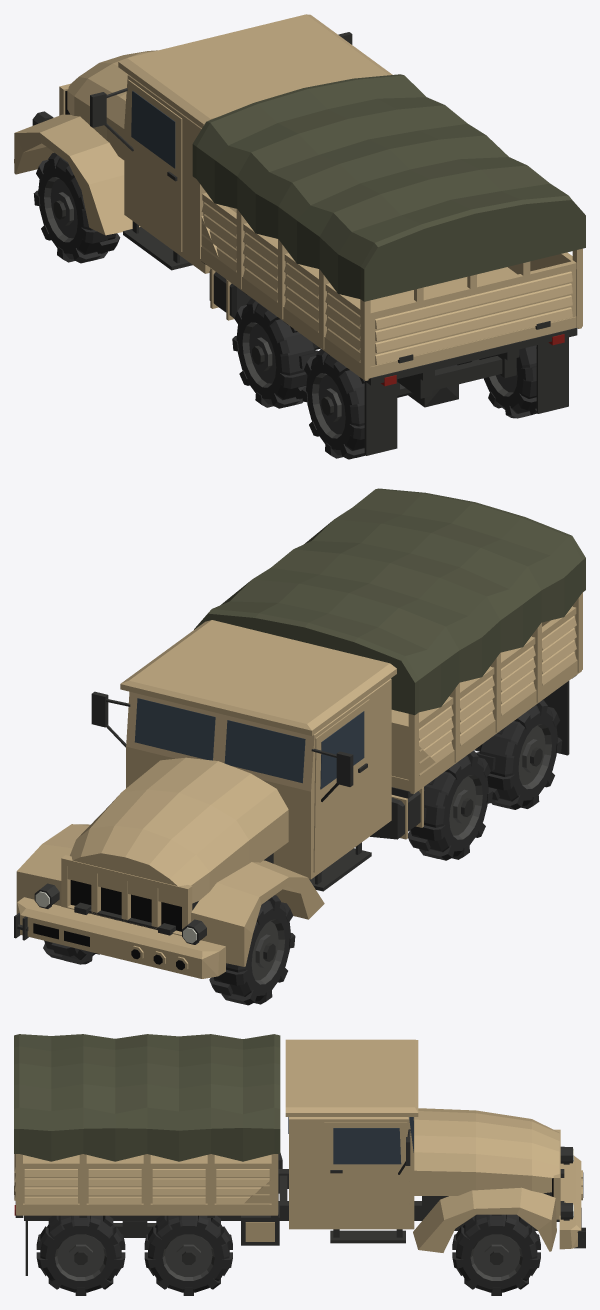
The model's file is supply_truck.glb.
3 renders of one model, top to bottom at view 1: azimuth 30°, elevation 25°; view 2: azimuth 150°, elevation 25°; view 3: azimuth 270°, elevation 25°, orthographic. The views are drawn at different scales.
Parts seen in each view (by area): view 1: Truck; view 2: Truck; view 3: Truck.
Part boxes in pixels (<box>): Truck: <box>14,14,585,459</box>; Truck: <box>14,488,585,1005</box>; Truck: <box>14,1034,585,1295</box>.
Size of the model in its own units: 3.02 by 2.8 by 7.43.
